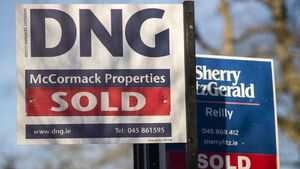property sign: (11, 2, 191, 143), (192, 54, 283, 169)
